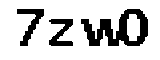0: (123, 6, 149, 52)
7: (15, 6, 45, 49)
w: (80, 15, 122, 52)
z: (47, 16, 76, 50)
